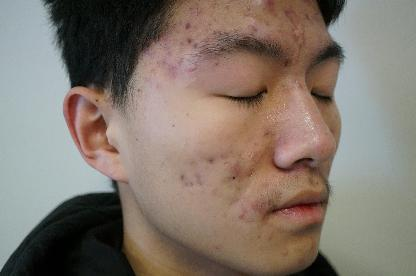Blackheads: (202, 153, 217, 168), (180, 35, 196, 47), (180, 20, 196, 31)
Dark-Spots: (227, 171, 240, 184)
Nodules: (175, 169, 195, 188), (255, 0, 278, 14)
Papules: (234, 210, 250, 223)
